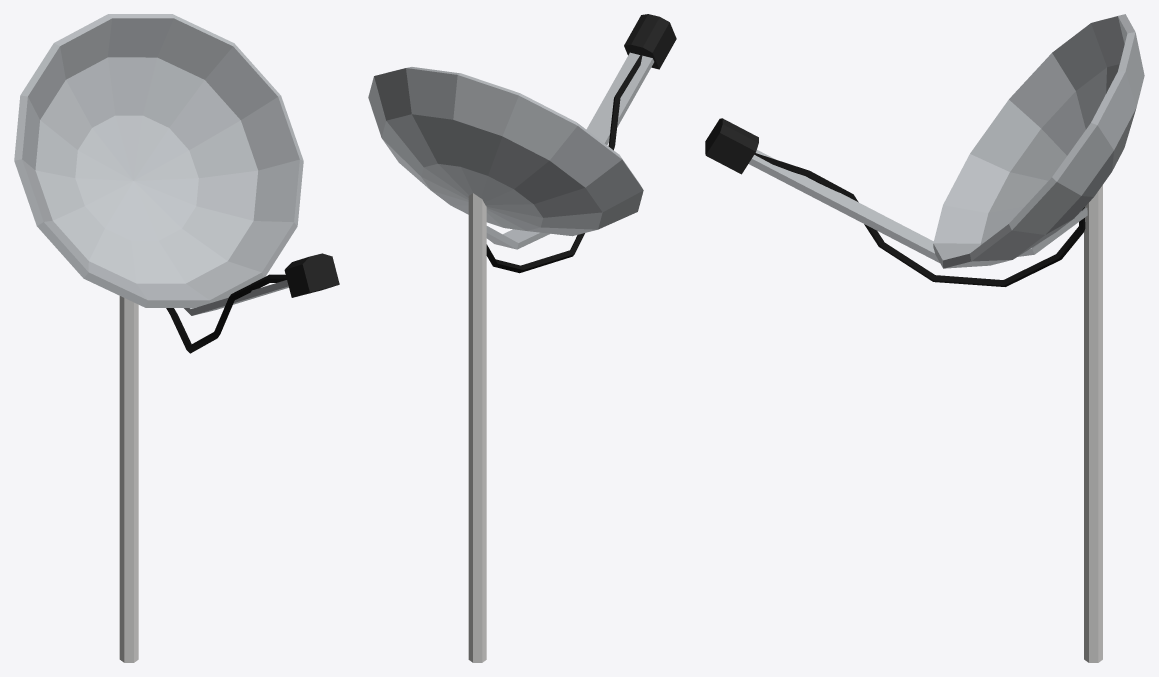
Rendered from SM_antenna_02.fbx.
3 renders of one model, left to right at view 1: azimuth 30°, elevation 25°; view 2: azimuth 150°, elevation 25°; view 3: azimuth 270°, elevation 25°, orthographic. The views are drawn at different scales.
Parts seen in each view (by area): view 1: Object164; view 2: Object164; view 3: Object164.
Boxes of the visible parts, x1,y1,x2,y2 form: Object164: [14, 14, 339, 662]; Object164: [368, 14, 676, 662]; Object164: [705, 14, 1144, 662].
Size of the model in its own units: 47.4 by 107 by 67.84.
